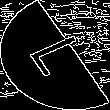L_NE: (18, 29, 92, 81)
